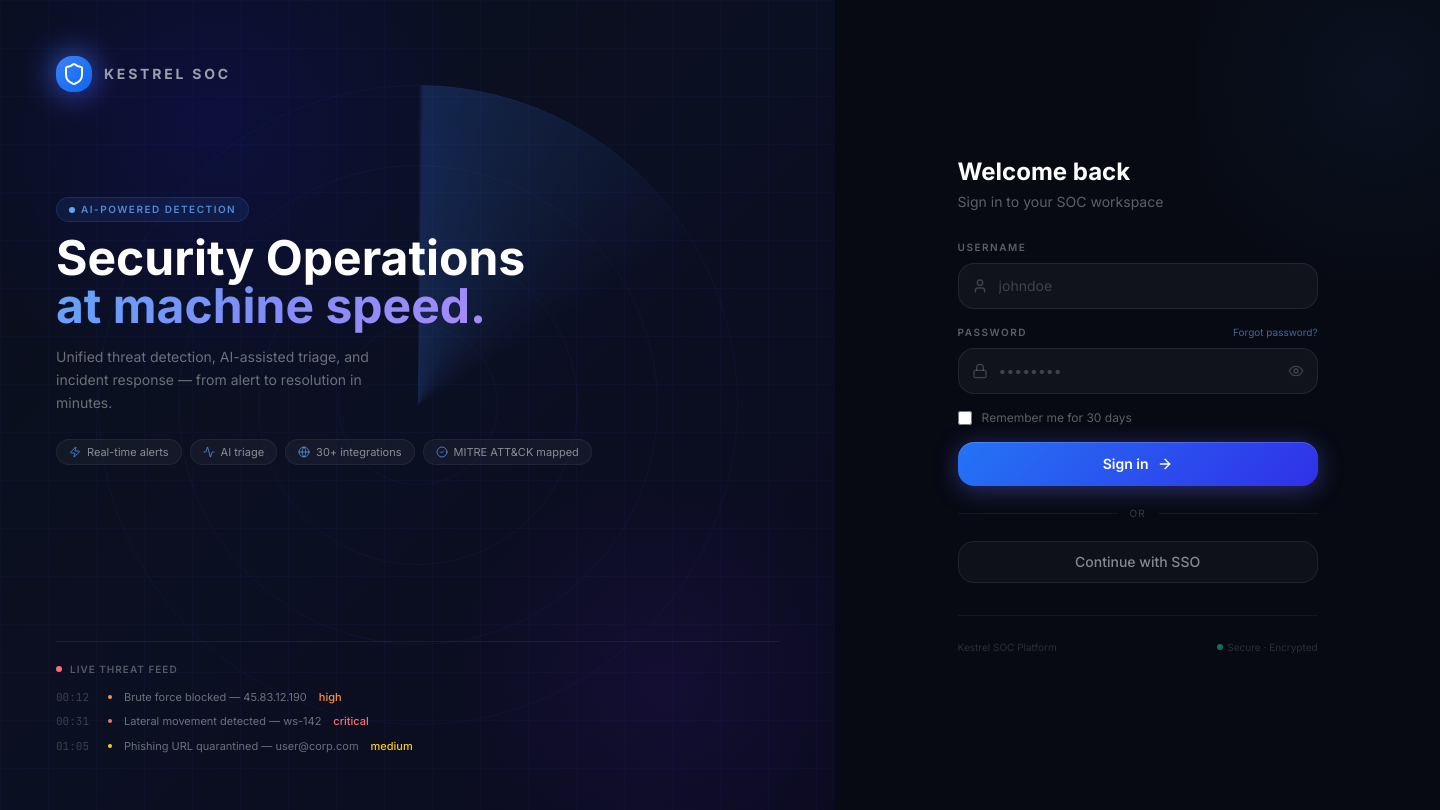
Test: Login page › disables submit button while loading
Type "admin" into the field labelled "Username" at (1138, 286), box [958,262,1318,308]
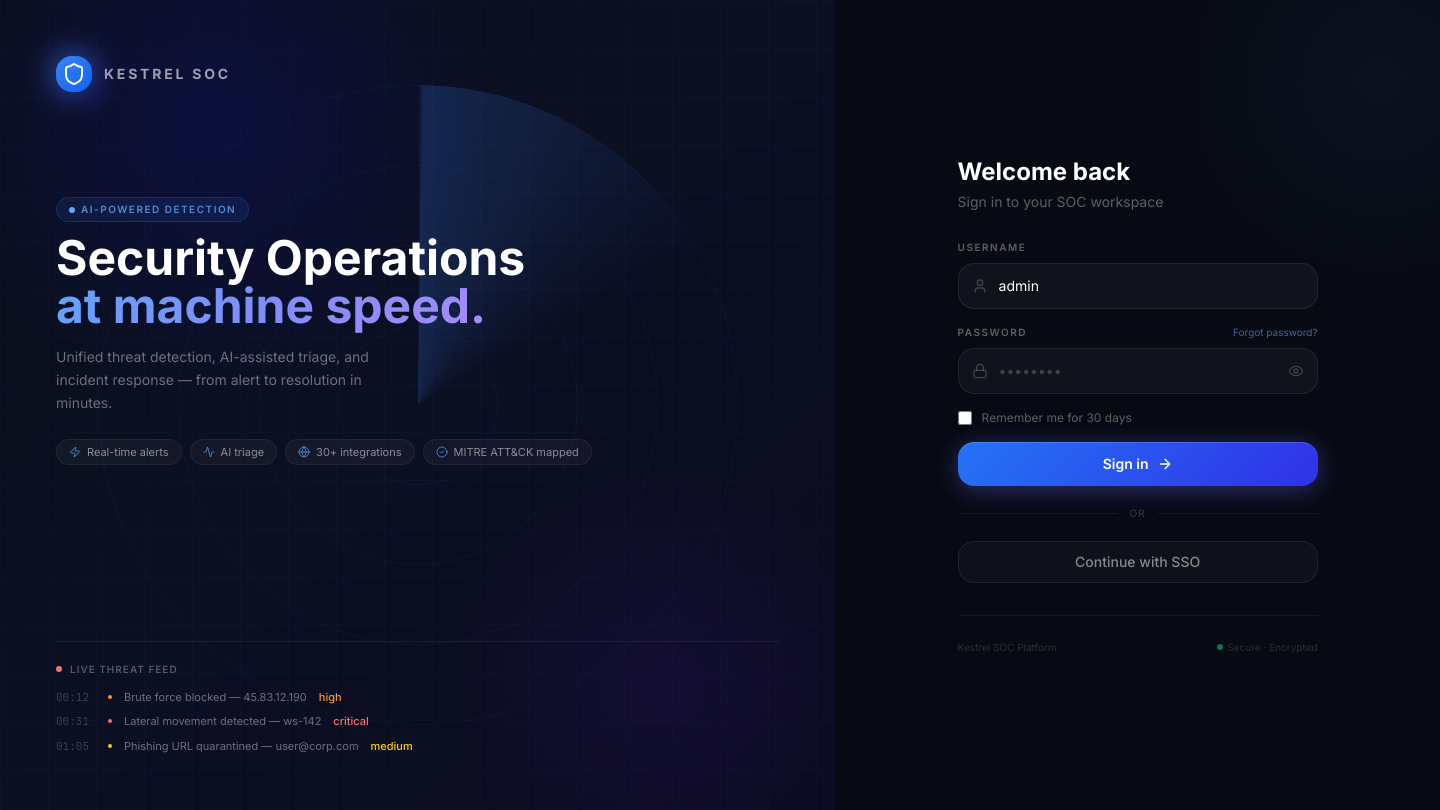
Type "P@ssword1!" into the password field labelled "Password" at (1138, 370), box [958,348,1318,394]
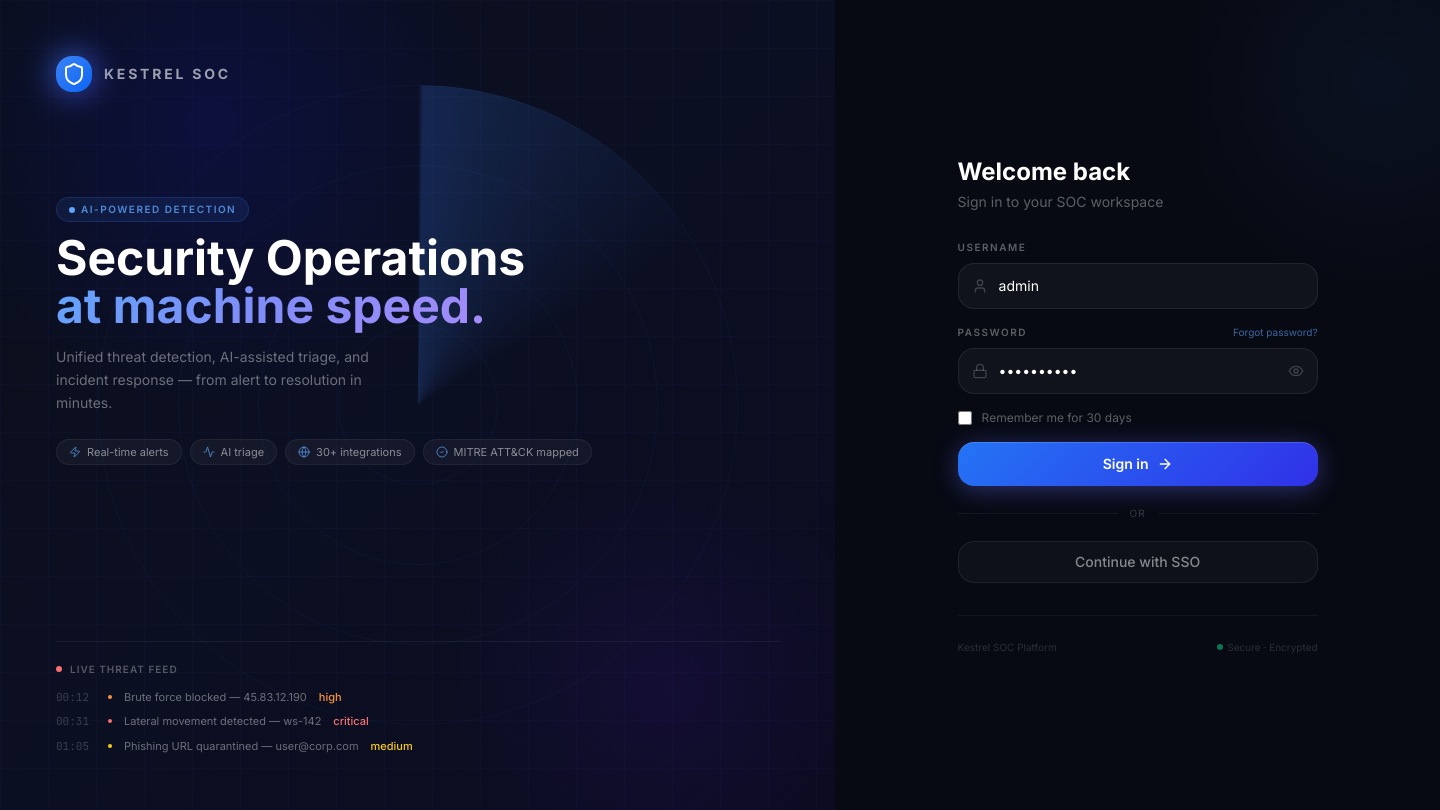
Click the button "Sign in" at (1138, 464), box [958,442,1318,486]
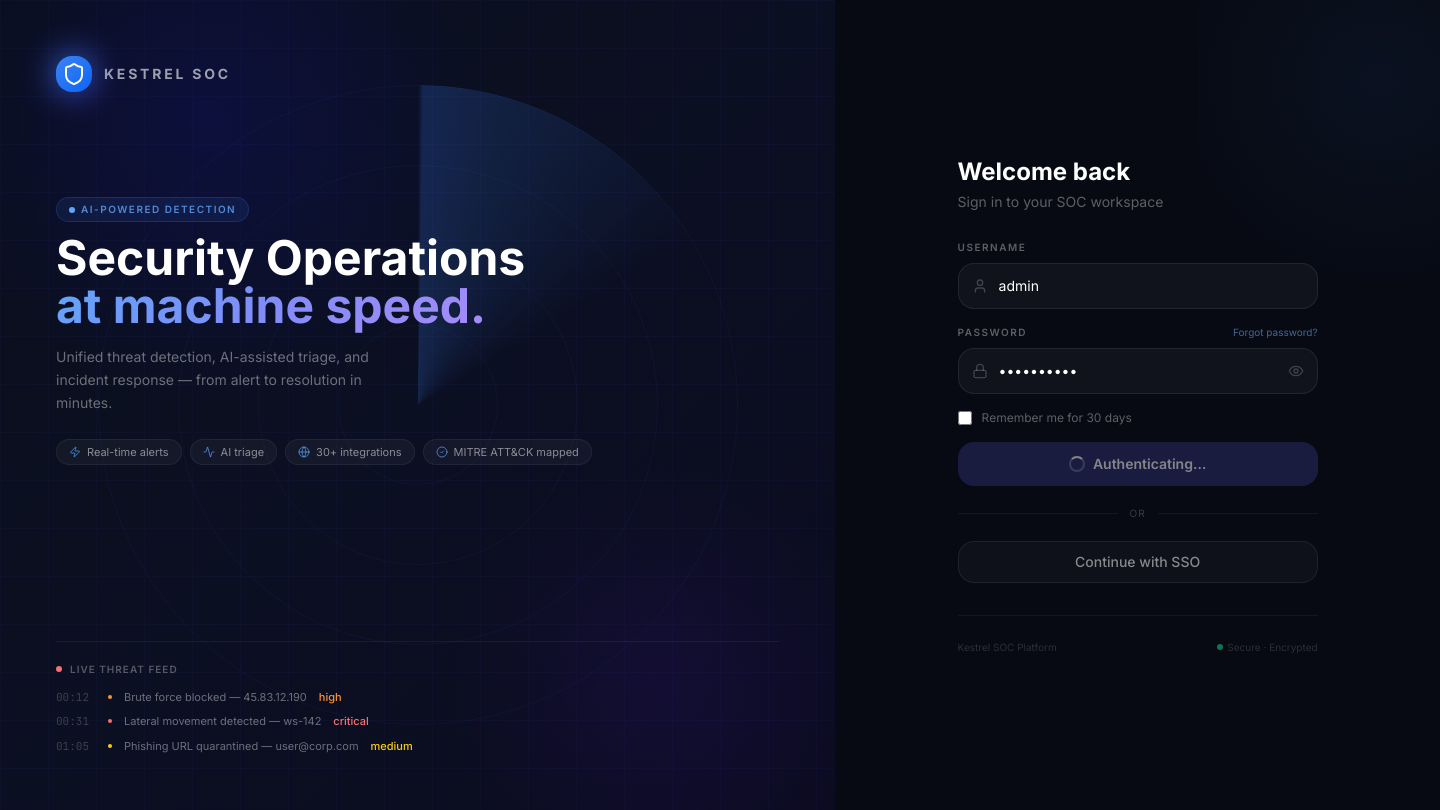
Check: the button "Authenticating…" is disabled, box [958,442,1318,486]
